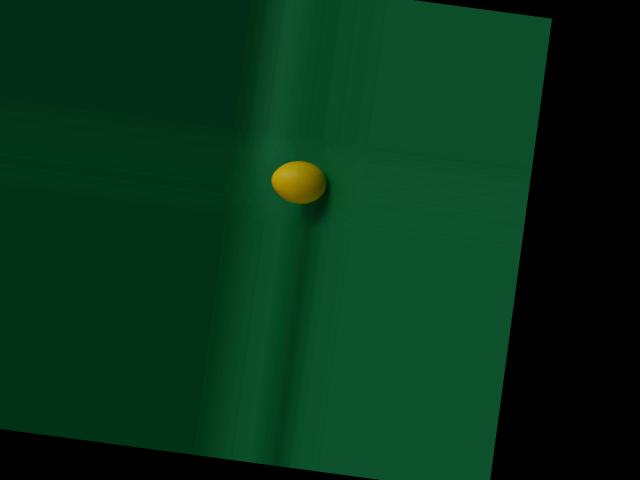egg: (268, 156, 329, 205)
